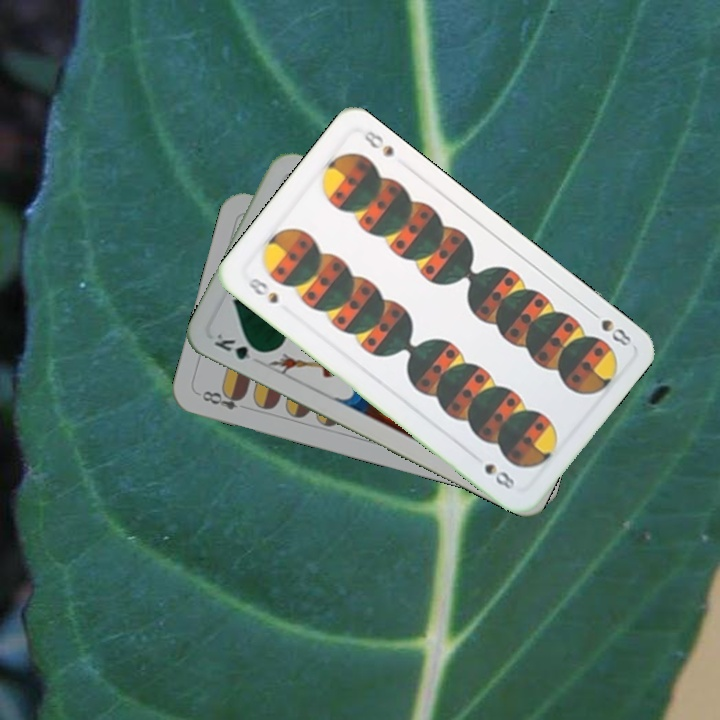E8: (195, 386, 247, 413)
GK: (210, 328, 267, 363)
S8: (584, 305, 634, 349), (243, 273, 281, 307)
